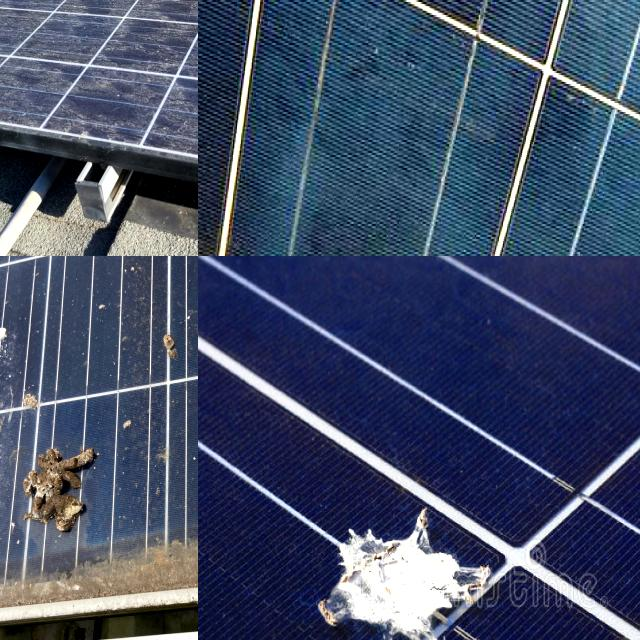bird: (312, 490, 500, 640), (105, 267, 196, 397), (149, 512, 198, 573), (169, 256, 198, 275)
dust: (0, 11, 171, 116), (0, 0, 161, 42), (29, 0, 169, 24), (0, 0, 60, 52), (0, 49, 55, 93)
shadow: (335, 0, 432, 148)
